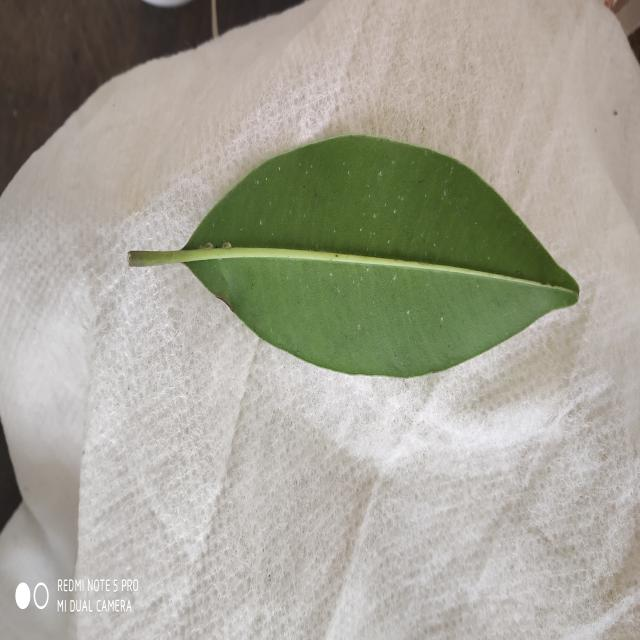sapota: (130, 136, 579, 378)
